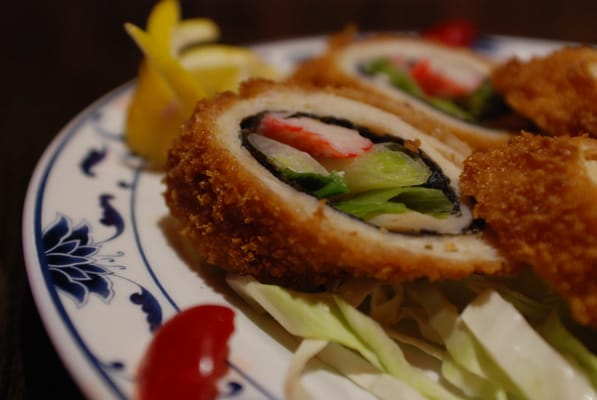soup: (162, 75, 517, 293), (458, 131, 597, 349)
